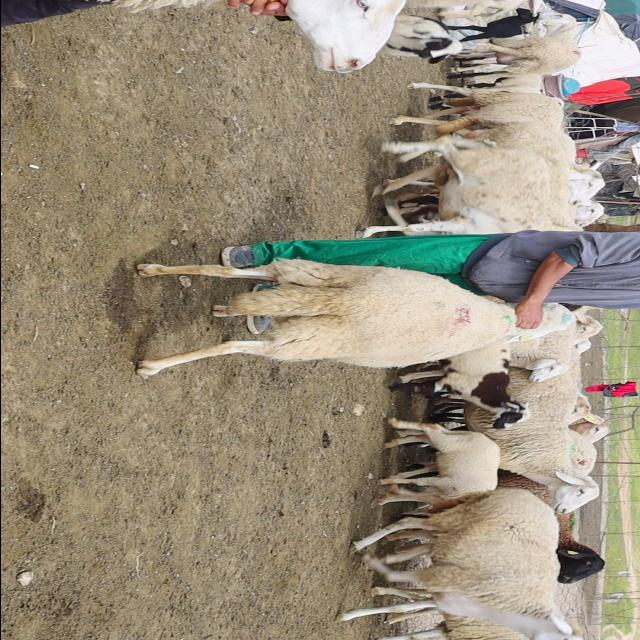Score_5: (136, 259, 575, 378)
